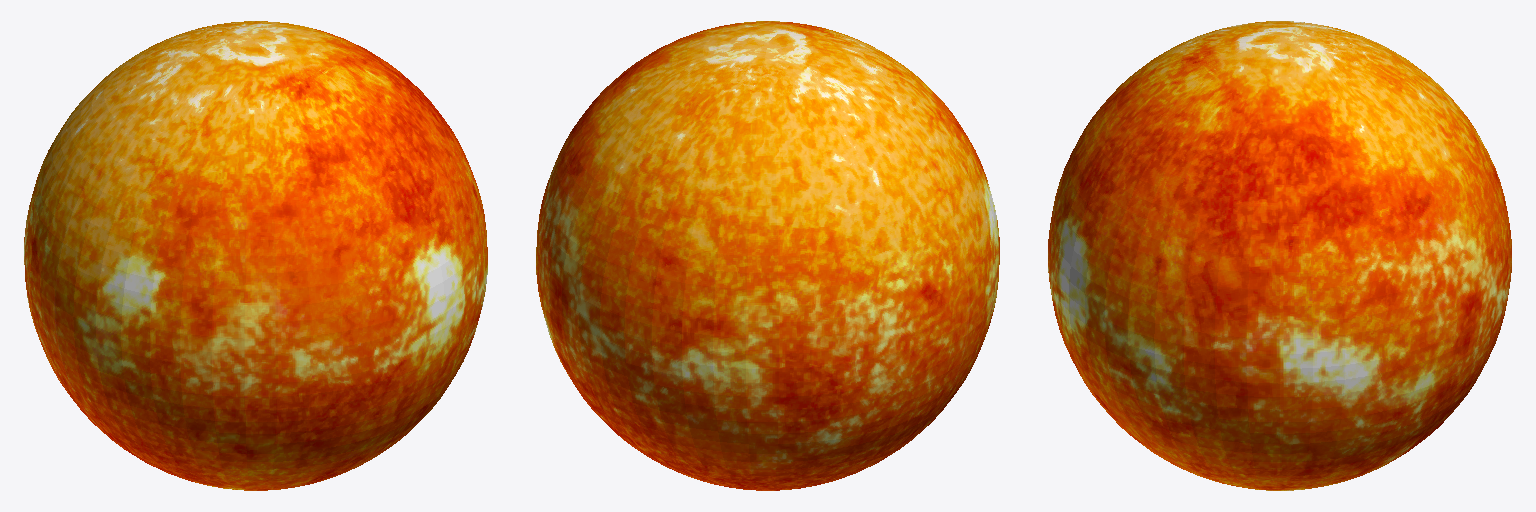
The picture shows the model from 3 angles: view 1: azimuth 30°, elevation 25°; view 2: azimuth 150°, elevation 25°; view 3: azimuth 270°, elevation 25°; orthographic projection.
Parts seen in each view (by area): view 1: Sun; view 2: Sun; view 3: Sun.
Boxes of the visible parts, x1,y1,x2,y2 form: Sun: [24, 21, 487, 490]; Sun: [536, 21, 999, 490]; Sun: [1048, 21, 1511, 490].
Bounding box in the file's own units: 4.92 × 4.97 × 4.92.
Materials: 1 (1 with a texture image).